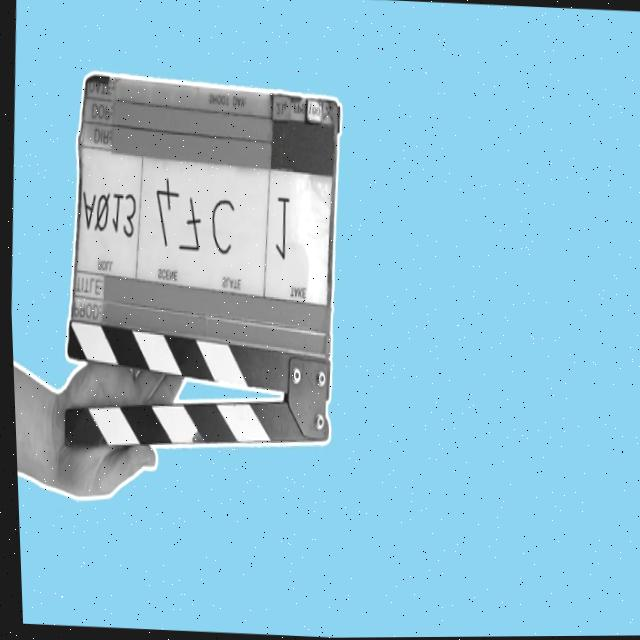Clapperboard: (50, 67, 360, 465)
